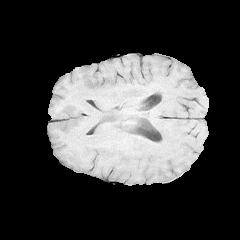glioma: (72, 106, 144, 158)
